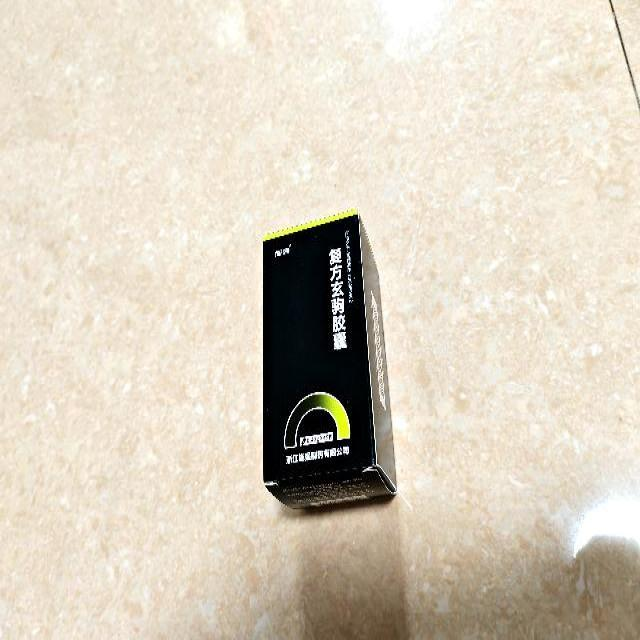box: (262, 208, 398, 512)
